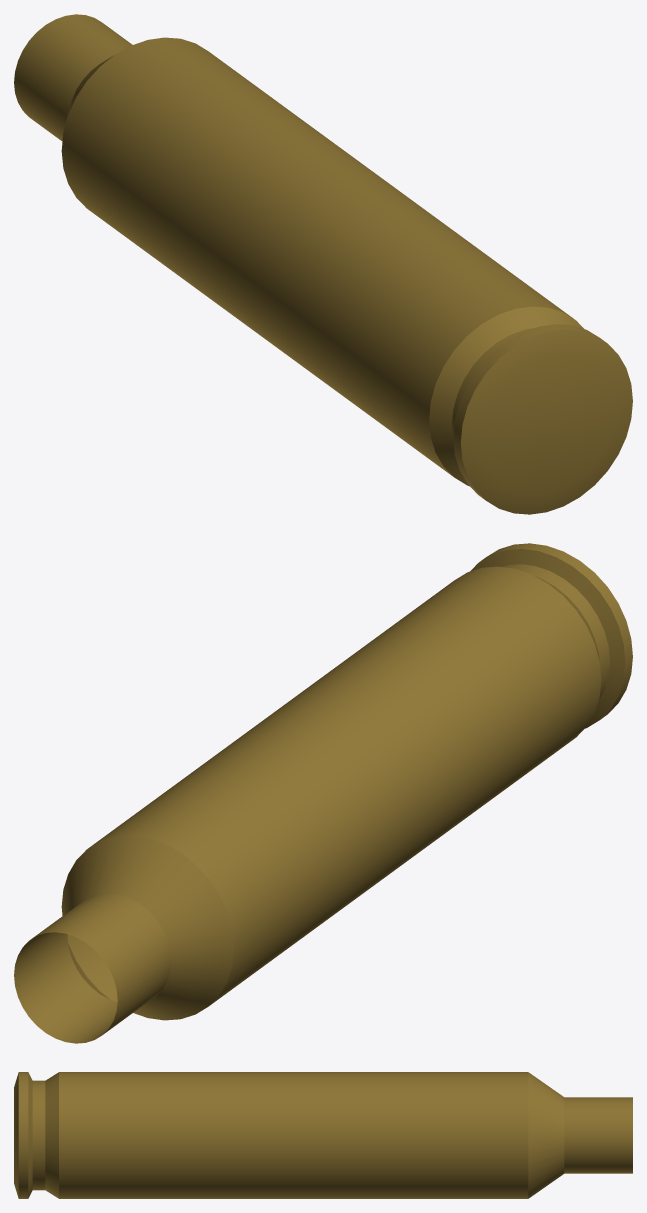
File: standardBullet.glb
3 views of the same model, one above another, from view 1: azimuth 30°, elevation 25°; view 2: azimuth 150°, elevation 25°; view 3: azimuth 270°, elevation 25° (orthographic). The views are drawn at different scales.
Parts seen in each view (by area): view 1: casing; view 2: casing; view 3: casing.
Boxes of the visible parts, bbox=[...] form: casing: bbox=[14, 14, 632, 514]; casing: bbox=[14, 543, 632, 1043]; casing: bbox=[14, 1072, 632, 1198].
Bounding box in the file's own units: 0.5175 × 0.5175 × 2.52.
